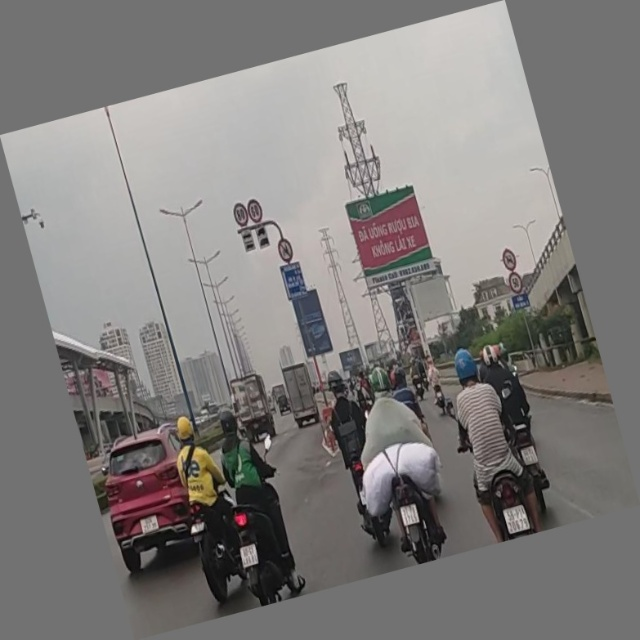P.103a: (500, 247, 517, 272)
P.104: (276, 237, 296, 264)
P.127*50: (508, 272, 525, 295)
P.127*60: (247, 199, 264, 223)
P.127*80: (232, 200, 251, 226)
